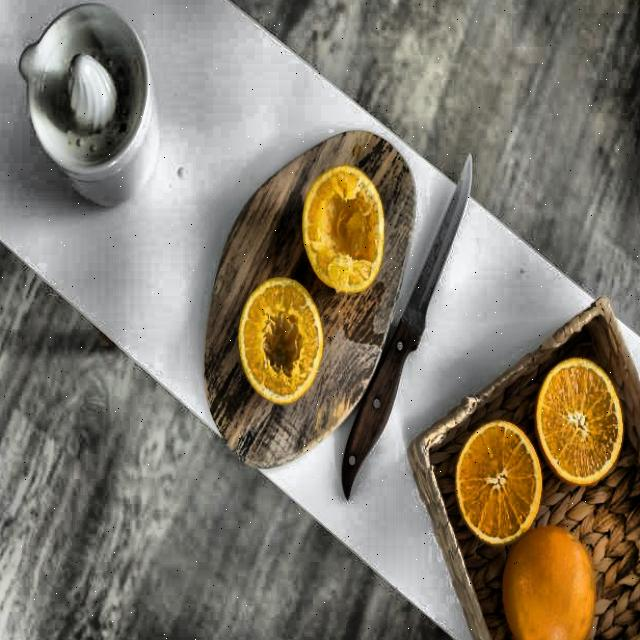knife: (331, 150, 476, 500)
